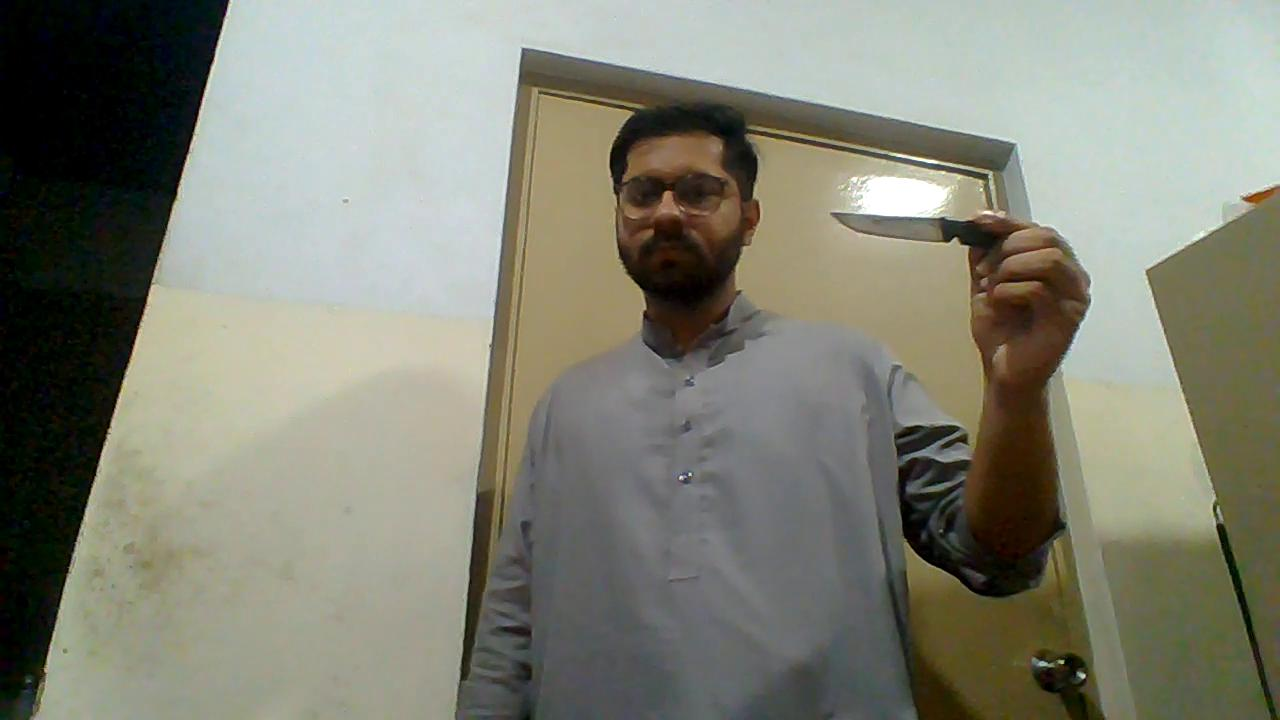criminal: (454, 100, 1093, 720)
weapon: (829, 206, 995, 247)
